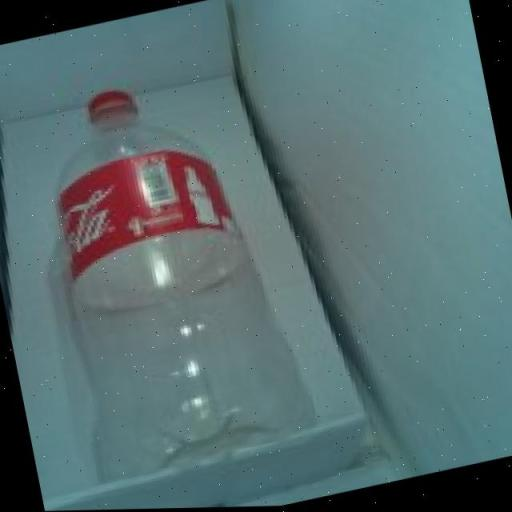plastic: (12, 59, 324, 504)
